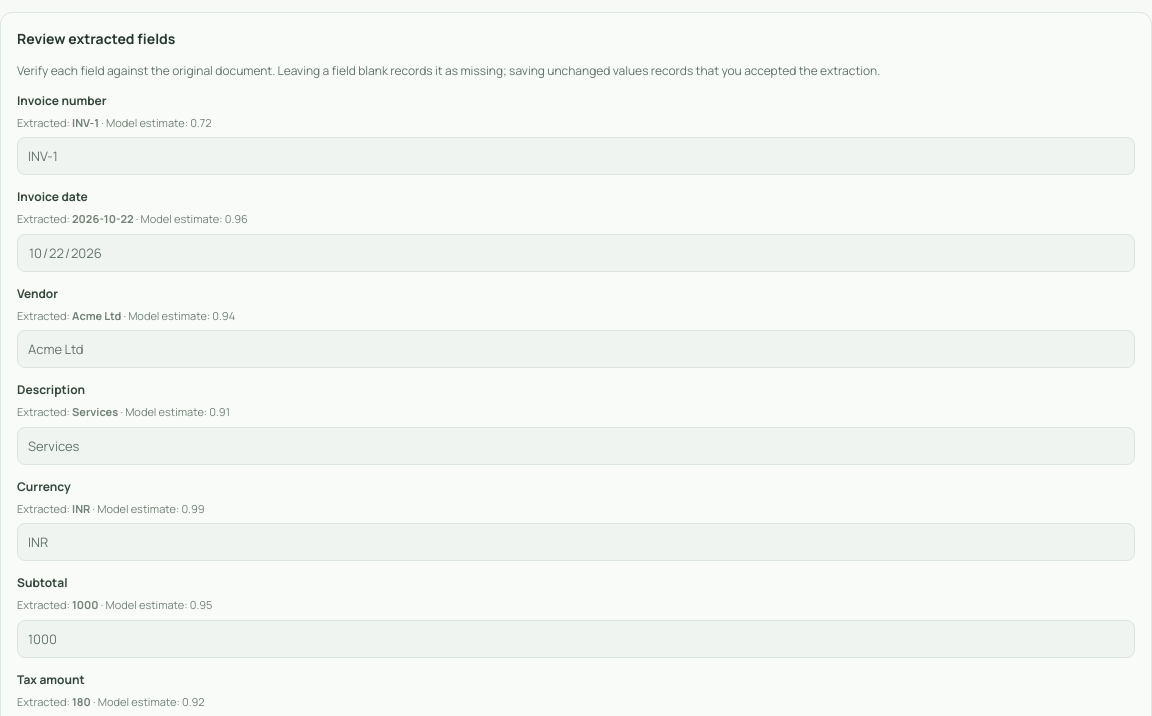
Scenario: InvoiceExtractionFeedbackForm › saves all eight reviewer-confirmed values with the extraction run identity
Expected: the text "Extracted: INV-1 · Model estimate: 0.72" is shown, [17, 115, 211, 130]
Replace the text in the field labelled "Invoice number" with "INV-1-CORRECTED" at [576, 156], box [17, 137, 1135, 175]
(page scrolled)
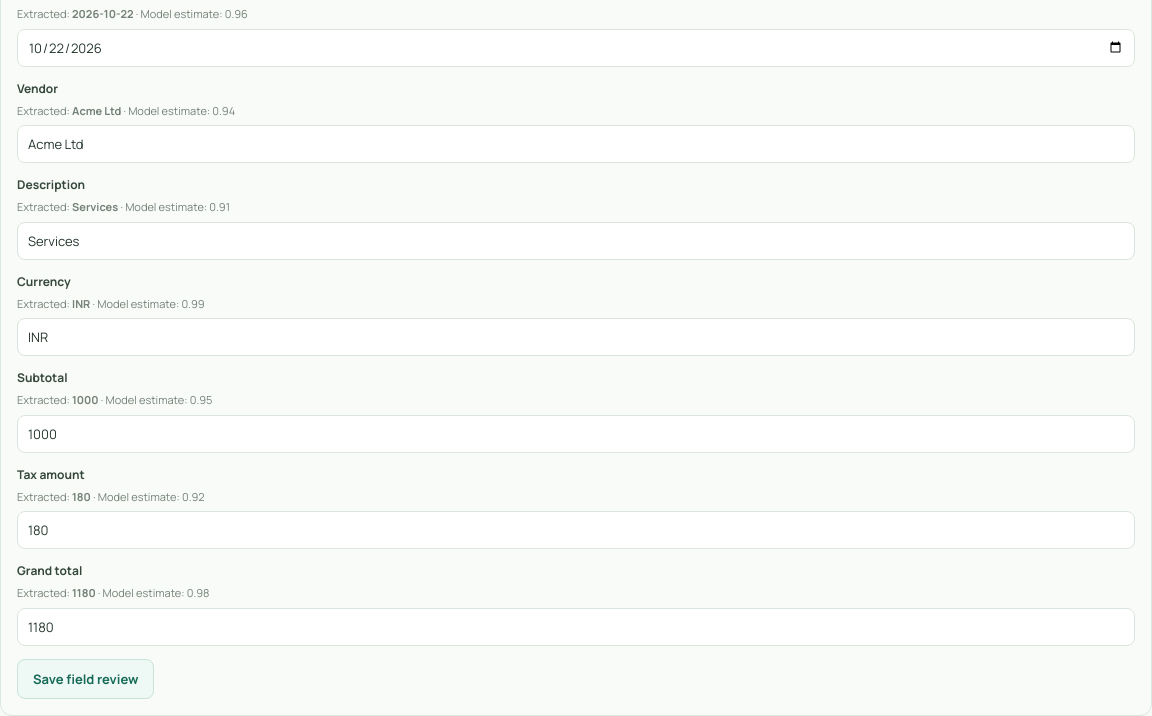
Click the button "Save field review" at [86, 679], box [17, 659, 154, 699]
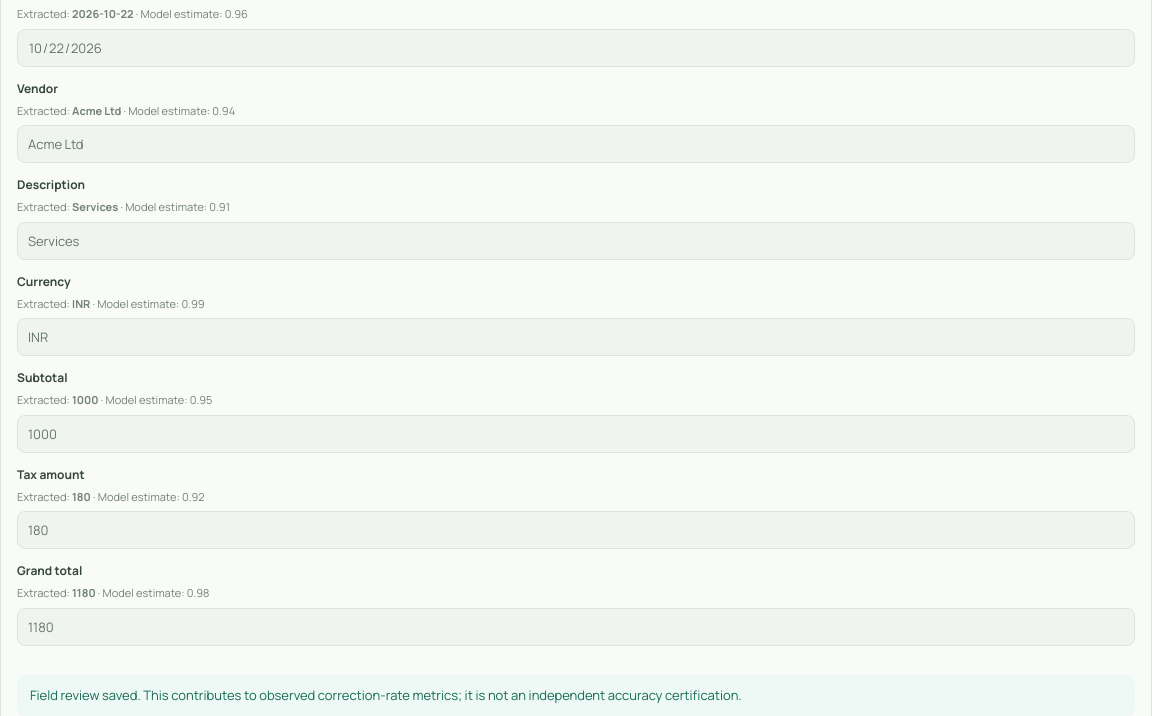
Result: the text "Field review saved" is shown at [30, 686, 742, 704]
